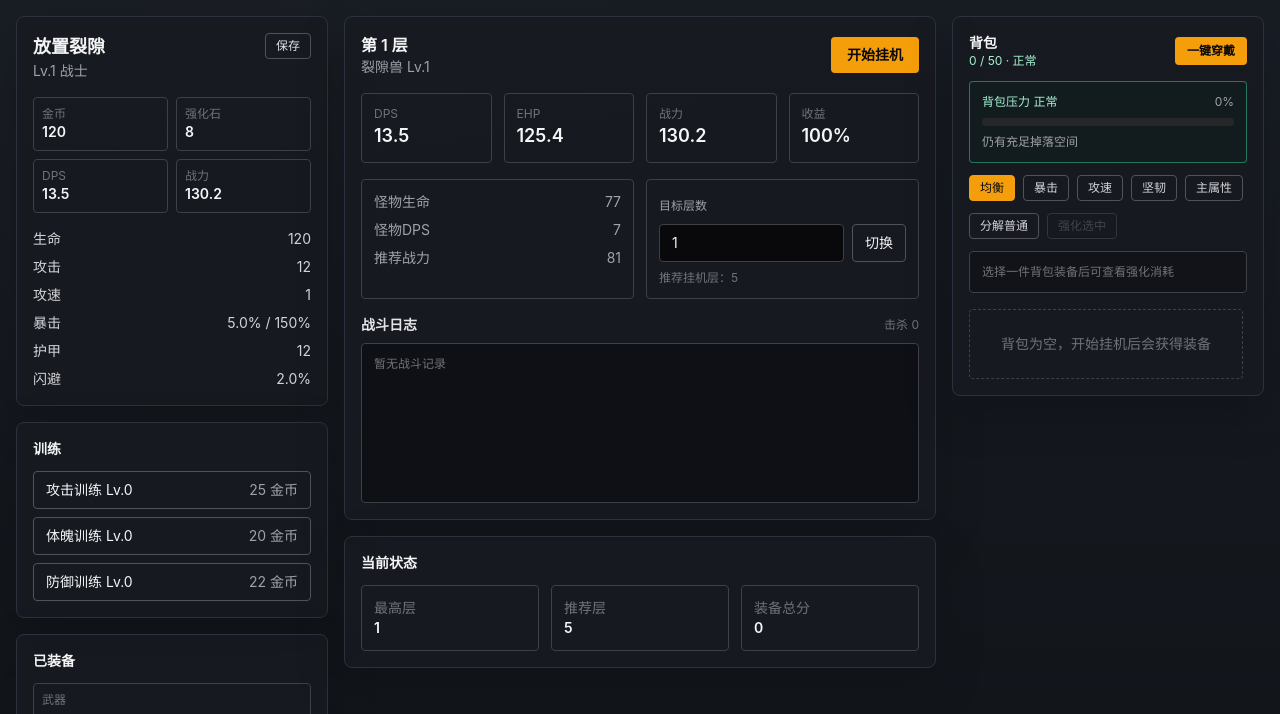
UI 冒烟测试 › 切层失败时主界面会显示提示
The image size is (1280, 714).
Replace the text in the number field with id "floor-input" with "999" at coordinates (752, 243), box [659,224,844,262]
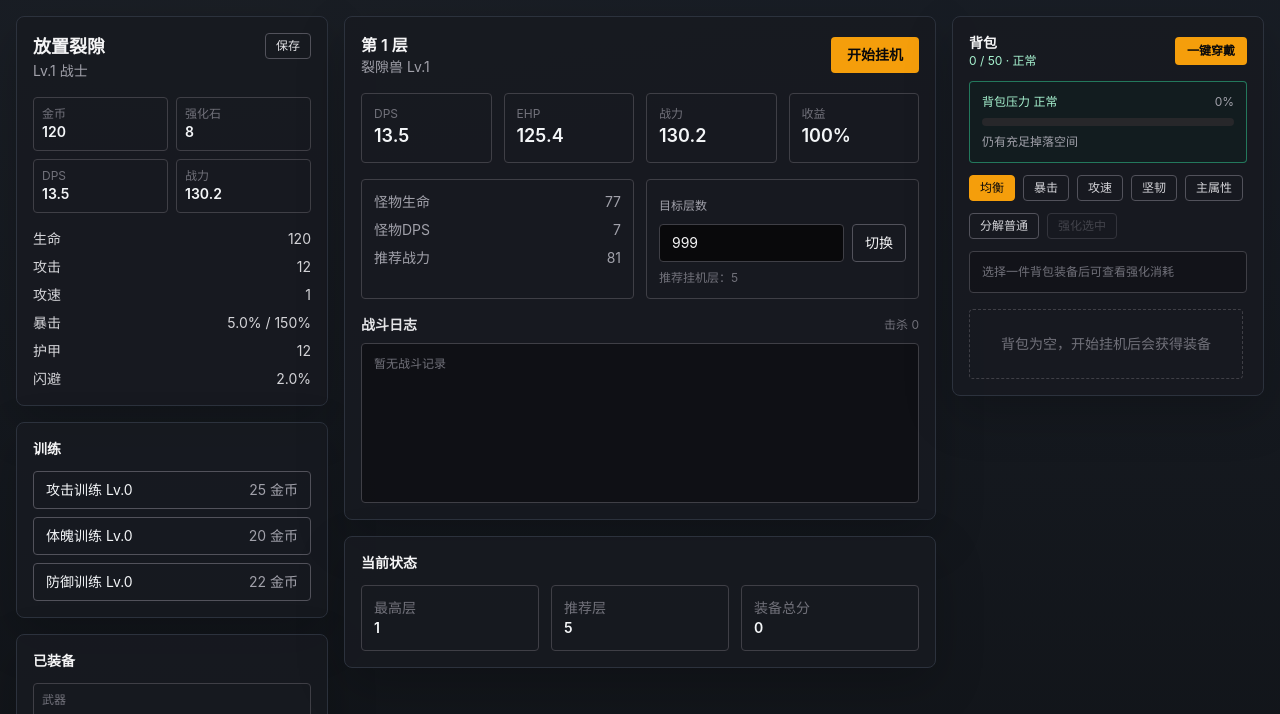
Click the button with test id "floor-apply" at coordinates (879, 243), box [852,224,906,262]
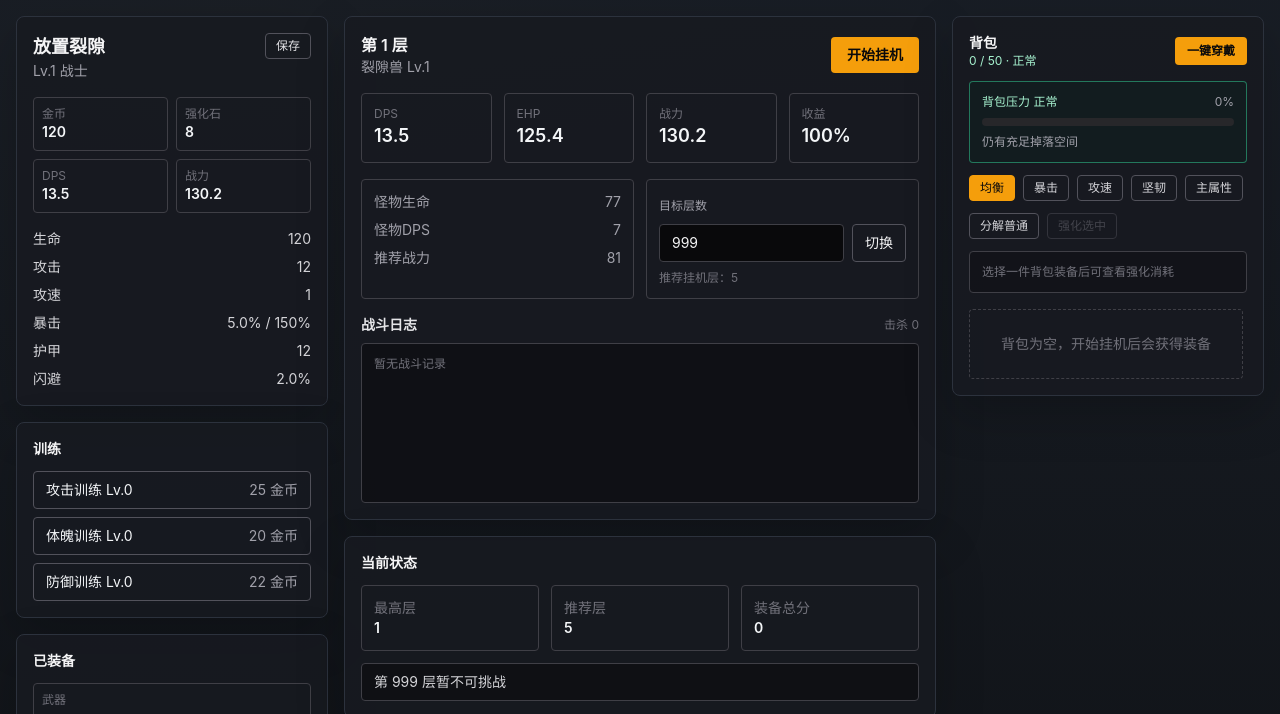
Check: the text "暂不可挑战" is shown, box [374,673,506,690]
